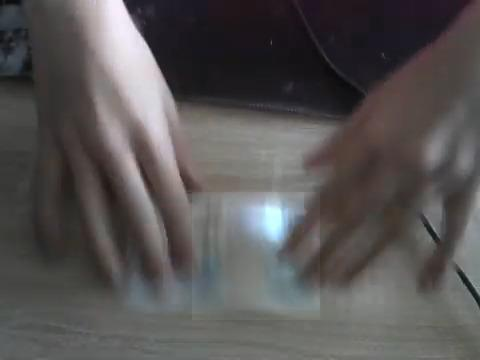20leva: (192, 192, 320, 320)
